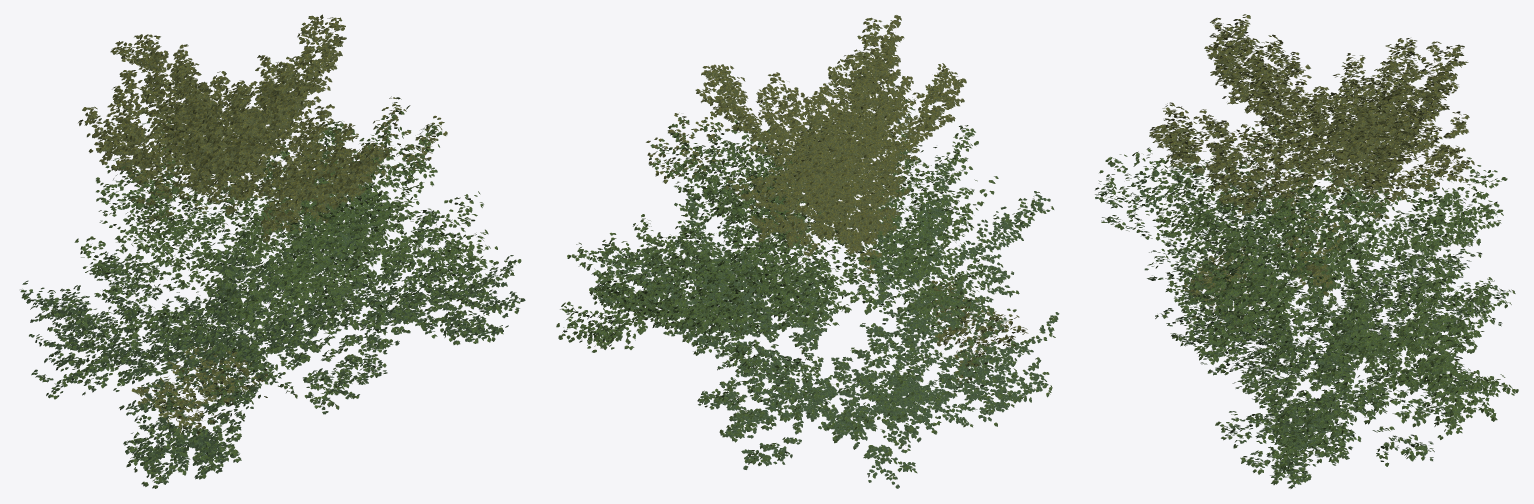
Rendered from Tree2_leaves.obj.
3 views of the same model, side by side, from view 1: azimuth 30°, elevation 25°; view 2: azimuth 150°, elevation 25°; view 3: azimuth 270°, elevation 25° (orthographic). The views are drawn at different scales.
Parts seen in each view (by area): view 1: tree2; view 2: tree2; view 3: tree2.
Part boxes in pixels (box(x1,y1,x2,y2)): tree2: box(20, 14, 525, 488); tree2: box(556, 15, 1059, 488); tree2: box(1095, 14, 1518, 488).
Bounding box in the file's own units: 11.88 × 11.12 × 10.01.
Materials: 3 (3 with a texture image).
